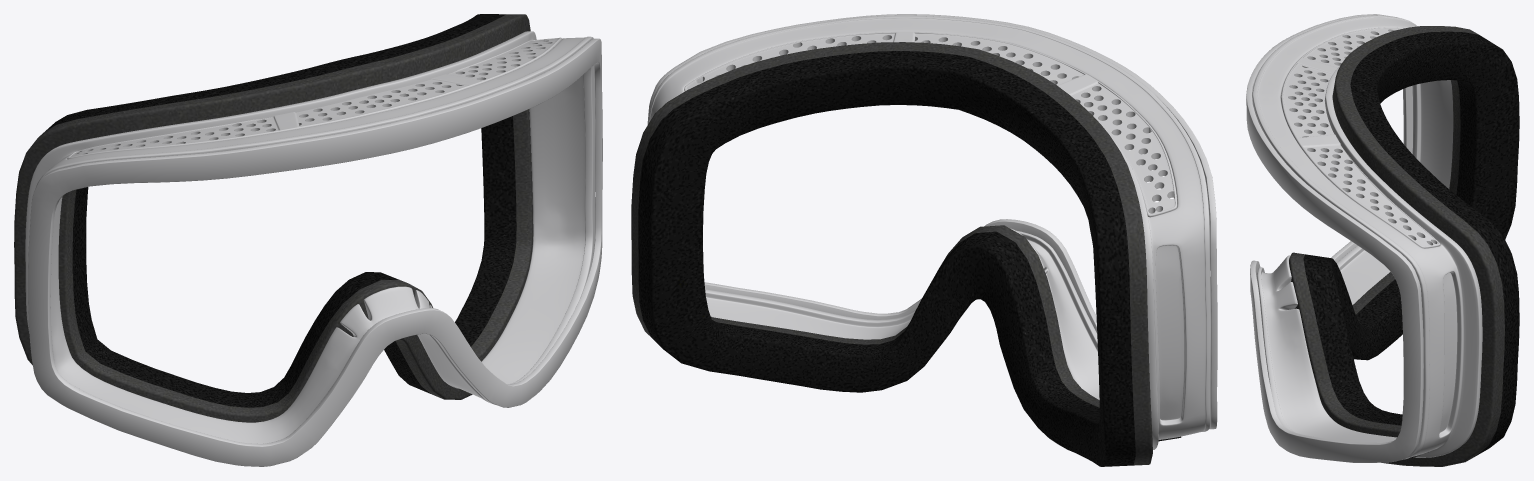
The model's file is FRAME_Oxia_MOOX018_001.glb.
3 renders of one model, left to right at view 1: azimuth 30°, elevation 25°; view 2: azimuth 150°, elevation 25°; view 3: azimuth 270°, elevation 25°, orthographic. The views are drawn at different scales.
Visible parts, largest first — view 1: Full_rim_geometry, Frame-Add_Frame-01_geometry_geometry; view 2: Frame-Add_Frame-01_geometry_geometry, Full_rim_geometry; view 3: Full_rim_geometry, Frame-Add_Frame-01_geometry_geometry.
Part boxes in pixels (<box>): Full_rim_geometry: <box>25,31,602,466</box>; Frame-Add_Frame-01_geometry_geometry: <box>14,14,533,422</box>; Frame-Add_Frame-01_geometry_geometry: <box>631,42,1181,466</box>; Full_rim_geometry: <box>647,14,1217,449</box>; Full_rim_geometry: <box>1246,14,1482,462</box>; Frame-Add_Frame-01_geometry_geometry: <box>1289,26,1519,466</box>.
Size of the model in its own units: 0.1706 by 0.1003 by 0.0784.
1 material, 1 textured.
